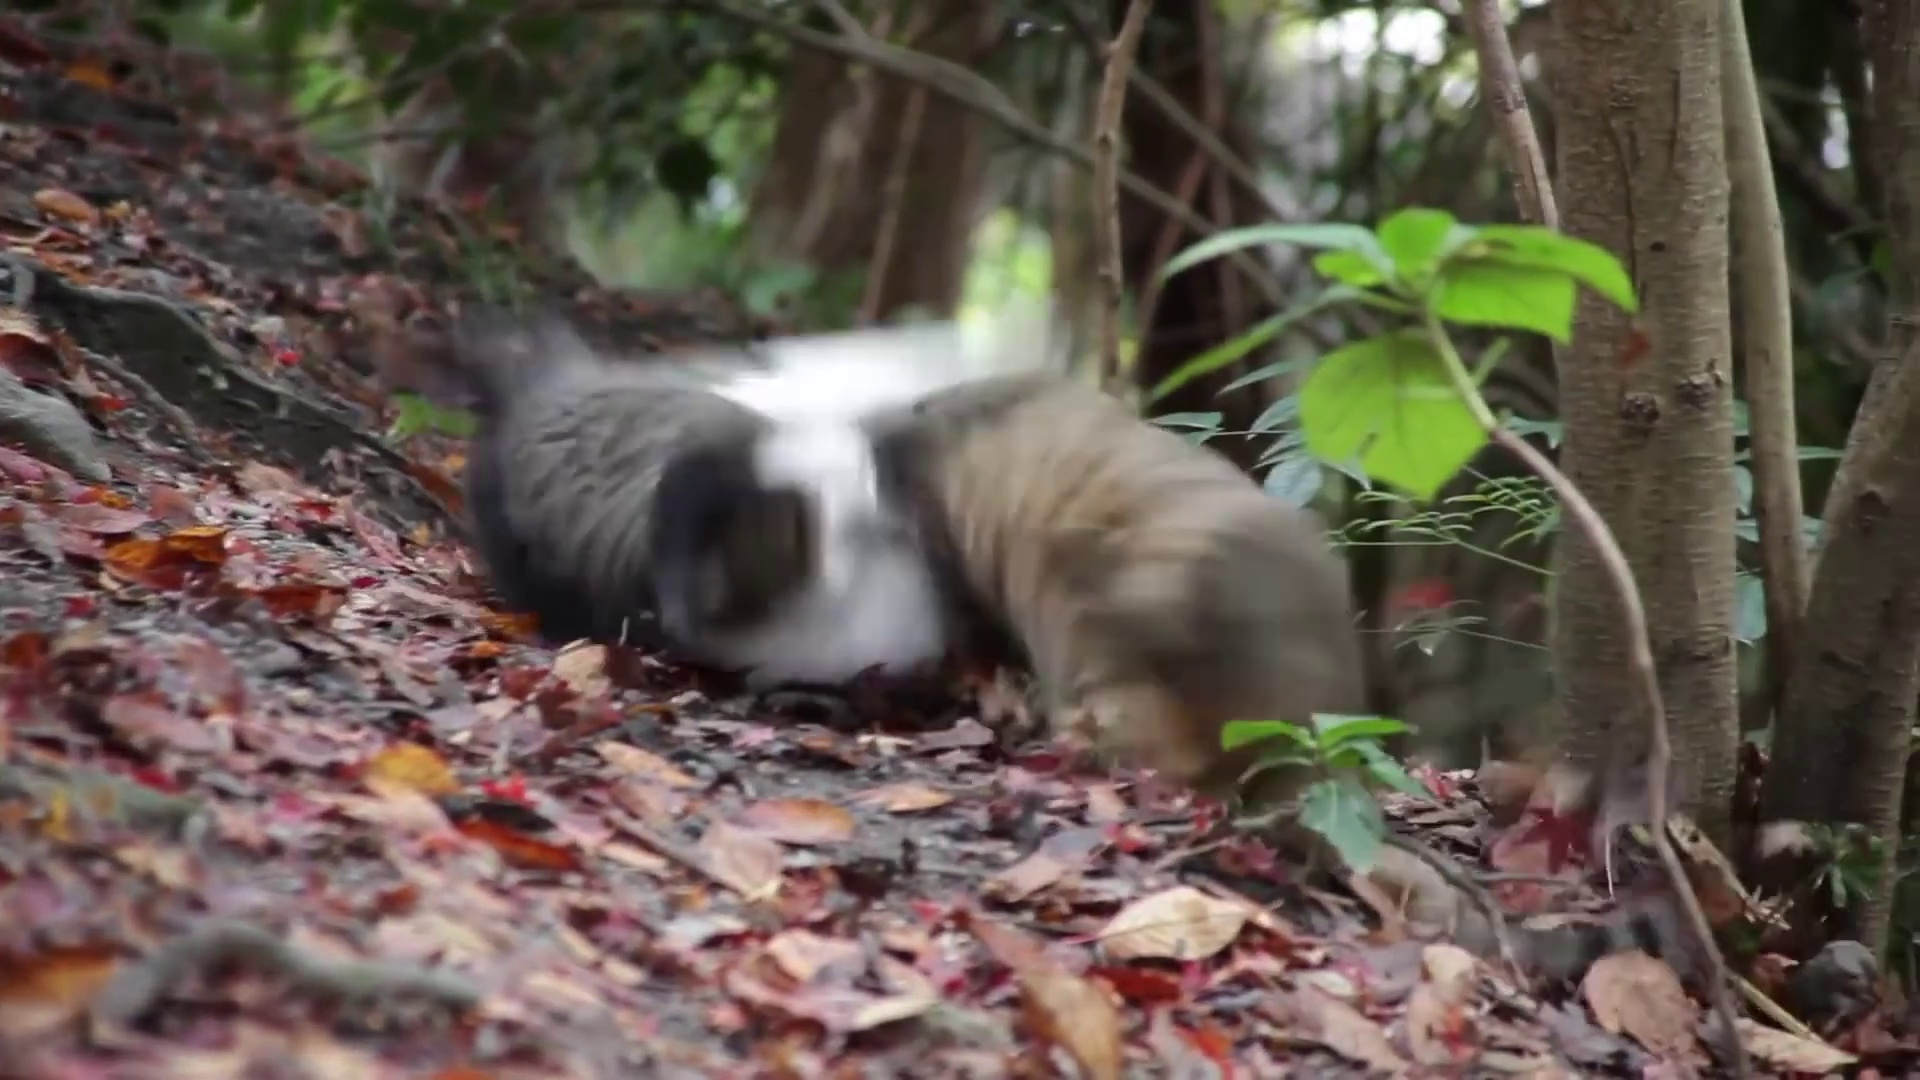black-white: (498, 326, 1051, 669)
pure black: (876, 373, 1364, 769)
